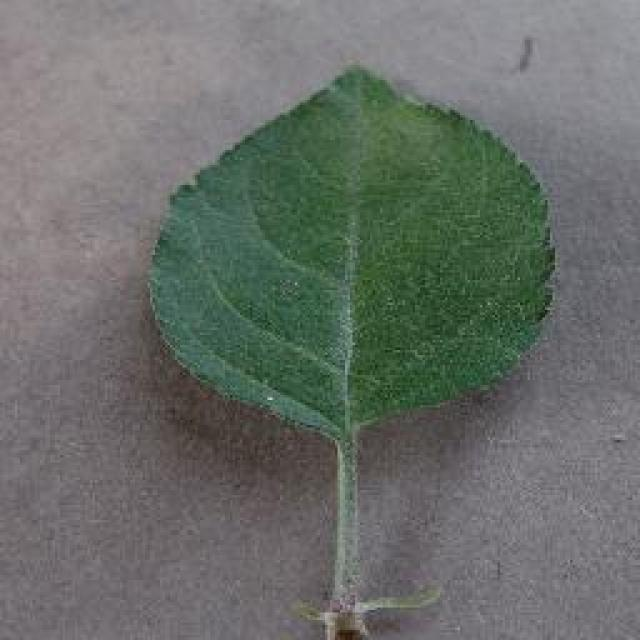apple healthy: (145, 60, 557, 638)
